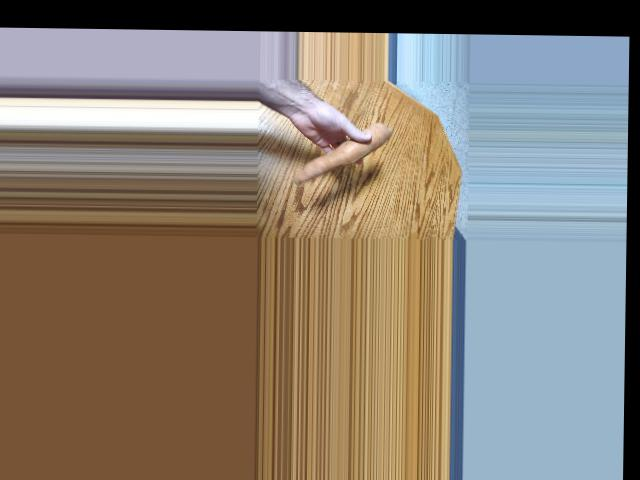sweet_potato: (295, 125, 402, 178)
